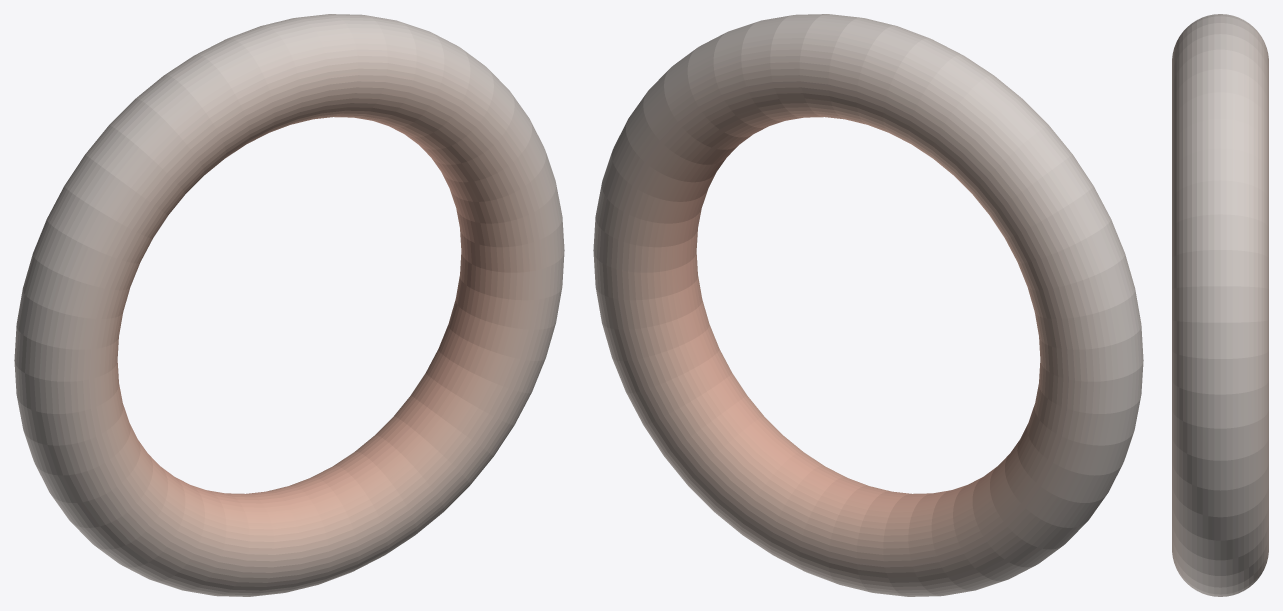
The picture shows the model from 3 angles, left to right: view 1: azimuth 30°, elevation 25°; view 2: azimuth 150°, elevation 25°; view 3: azimuth 270°, elevation 25°; orthographic projection. The views are drawn at different scales.
Visible parts, largest first — view 1: world; view 2: world; view 3: world.
Boxes of the visible parts, x1,y1,x2,y2 form: world: (14,14,564,596); world: (593,14,1143,596); world: (1172,14,1268,596).
Size of the model in its own units: 31.2 by 31.14 by 5.19.
